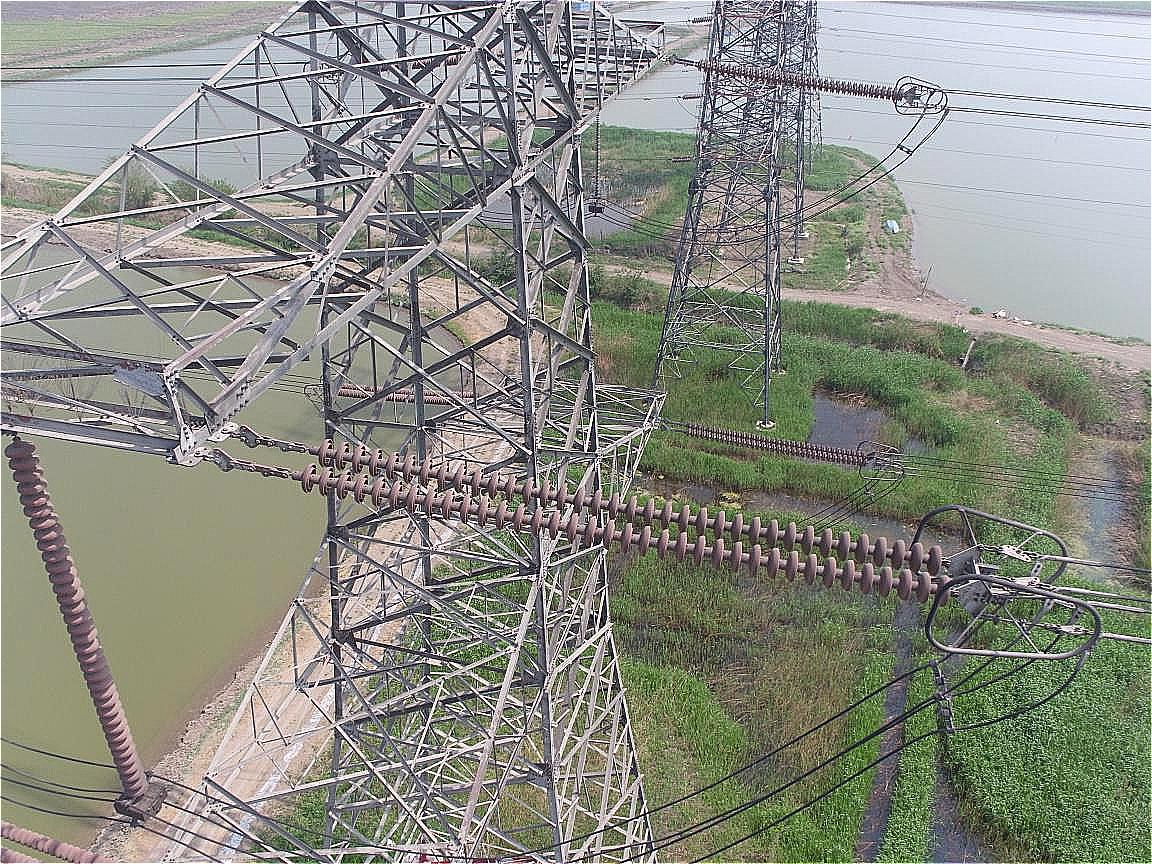insultor1: (300, 437, 953, 606), (7, 441, 148, 799)
insultor2: (698, 56, 905, 102)
